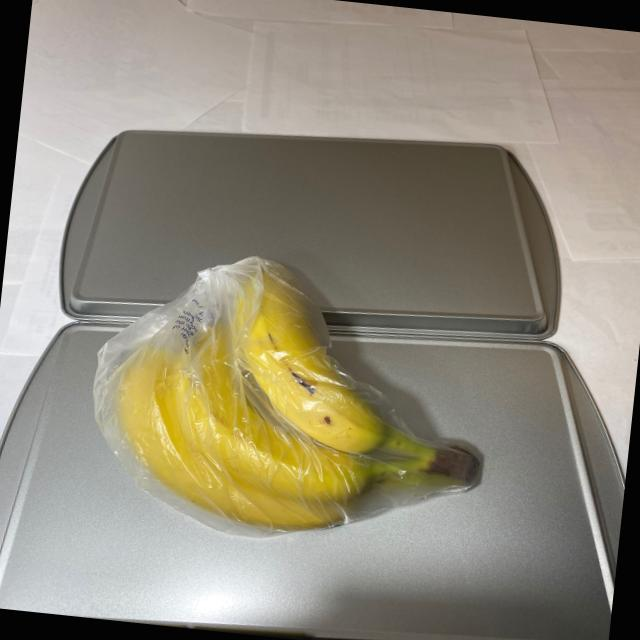banana: (84, 233, 504, 561)
